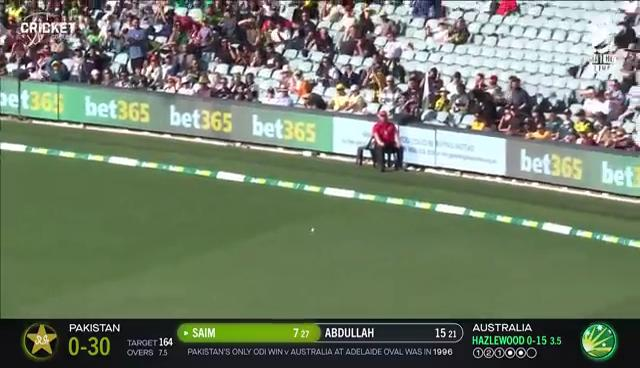ball: (306, 221, 321, 241)
